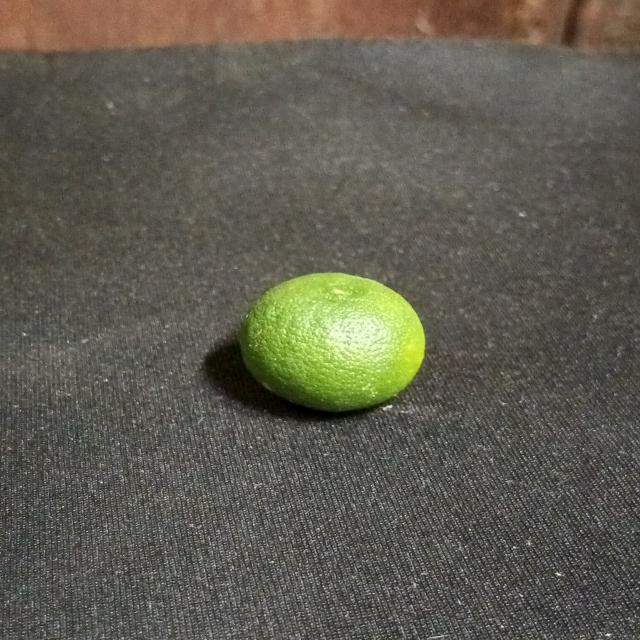heathy: (240, 271, 426, 420)
